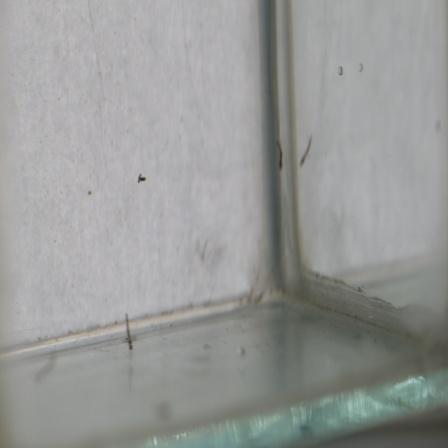Jentik-Nyamuk: (121, 311, 136, 353), (133, 169, 148, 187)
